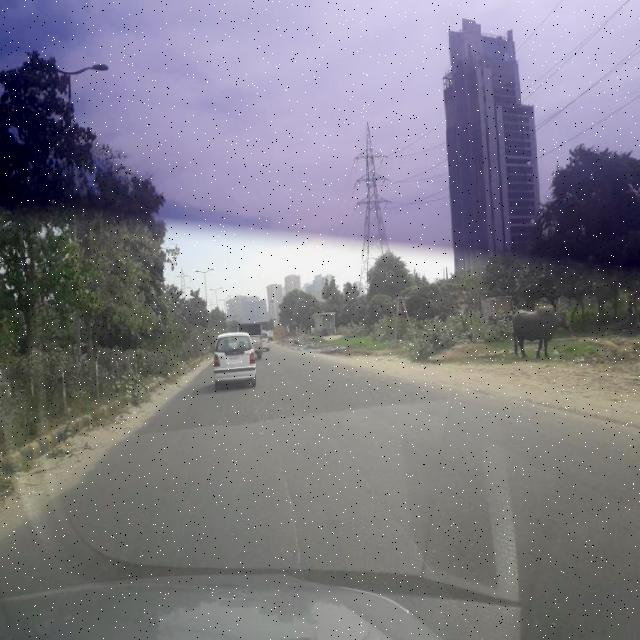D00: (339, 449, 474, 633), (271, 439, 310, 565)
D20: (224, 388, 324, 444)
